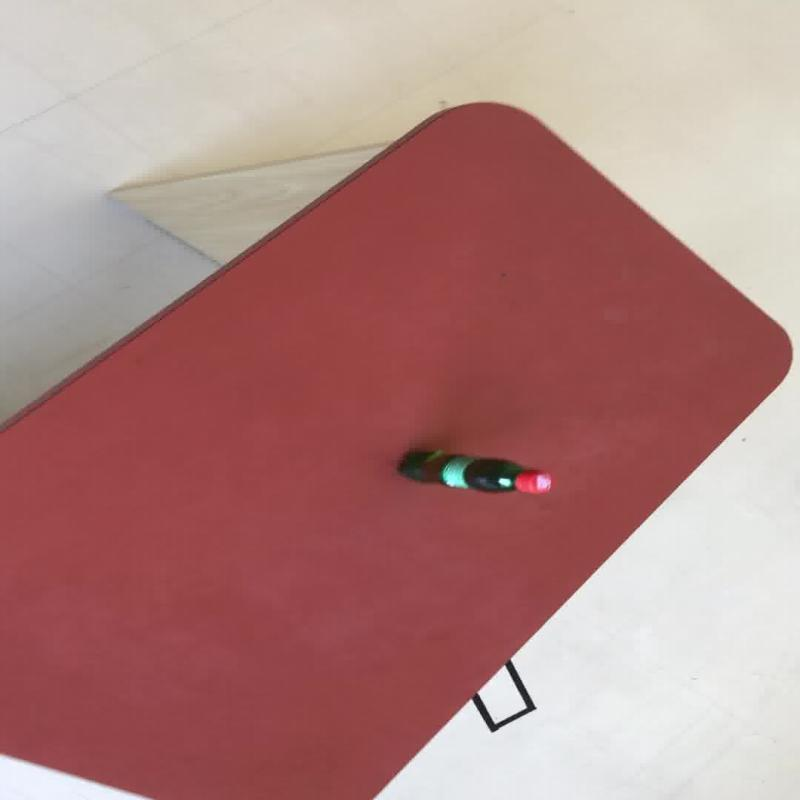guarana: (2, 99, 793, 798), (394, 447, 552, 494)
